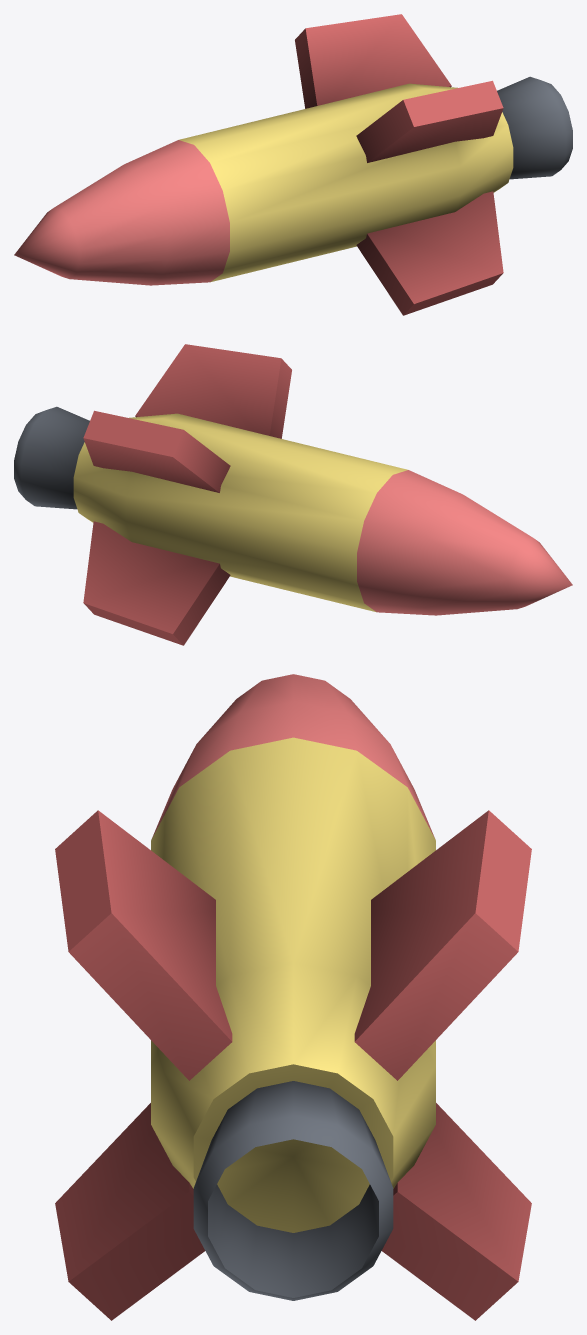
The model's file is ClusterRocketCluster.fbx.
The picture shows the model from 3 angles, top to bottom: view 1: azimuth 30°, elevation 25°; view 2: azimuth 150°, elevation 25°; view 3: azimuth 270°, elevation 25°; orthographic projection. The views are drawn at different scales.
Parts seen in each view (by area): view 1: rocket_cluster_small; view 2: rocket_cluster_small; view 3: rocket_cluster_small.
Boxes of the visible parts, x1,y1,x2,y2 form: rocket_cluster_small: [14, 14, 572, 315]; rocket_cluster_small: [14, 344, 572, 645]; rocket_cluster_small: [55, 674, 531, 1320].
Bounding box in the file's own units: 0.51 × 0.1959 × 0.1959.
